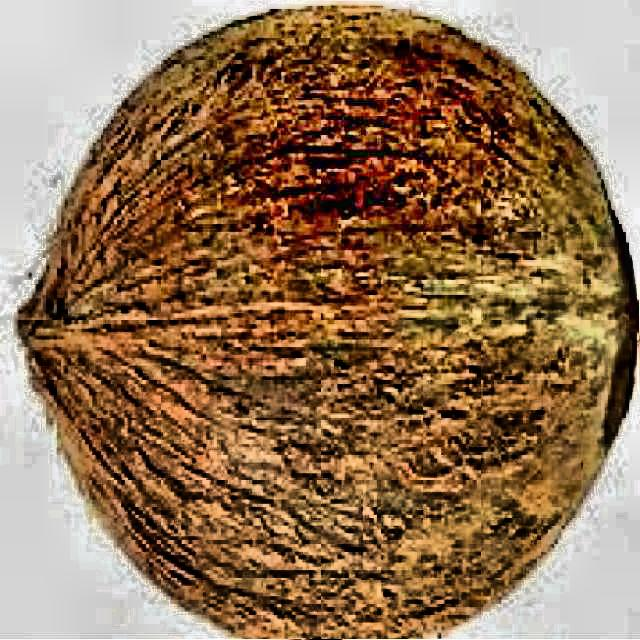good: (23, 9, 636, 640)
